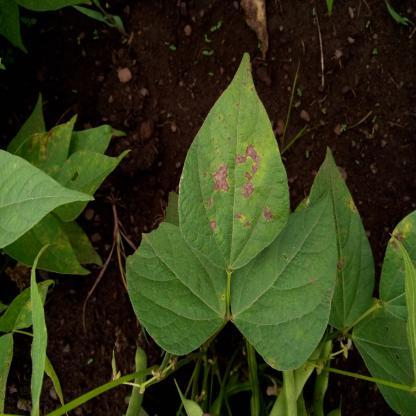Beans_Angular_LeafSpot: (171, 53, 300, 256), (298, 148, 376, 331), (380, 217, 416, 329), (13, 111, 72, 166)
